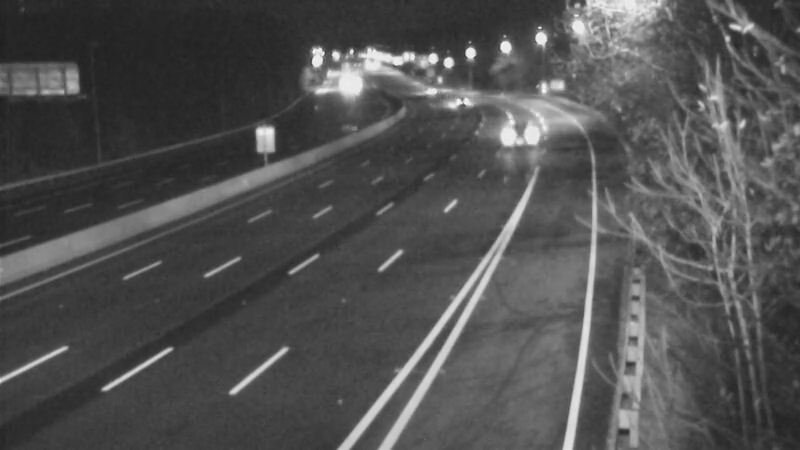vehicle: (406, 66, 456, 116), (433, 78, 483, 128), (487, 109, 537, 159), (320, 63, 370, 113)
